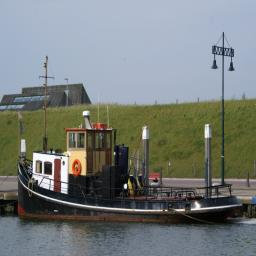tugboat: (18, 109, 246, 230)
